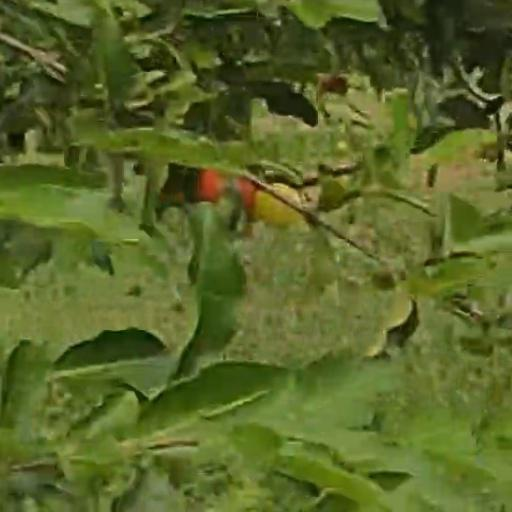acerola_vermelha: (196, 169, 257, 204), (259, 187, 300, 225)
